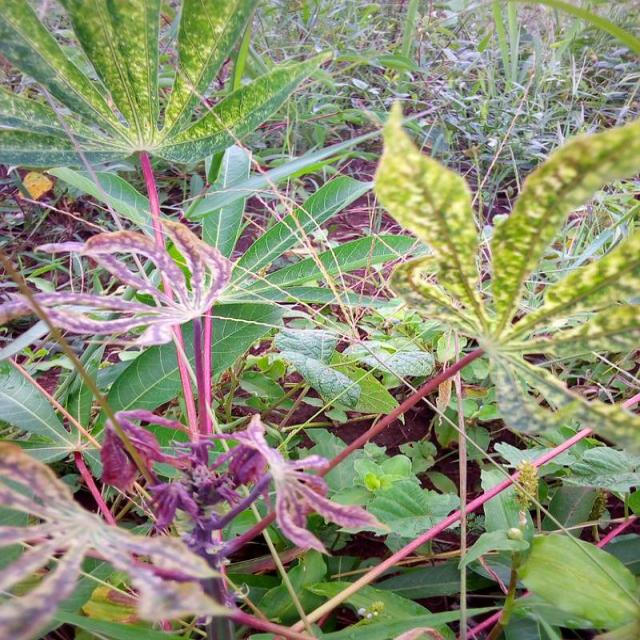cassava leaf: (0, 1, 638, 638), (488, 116, 638, 333), (372, 99, 482, 313)
